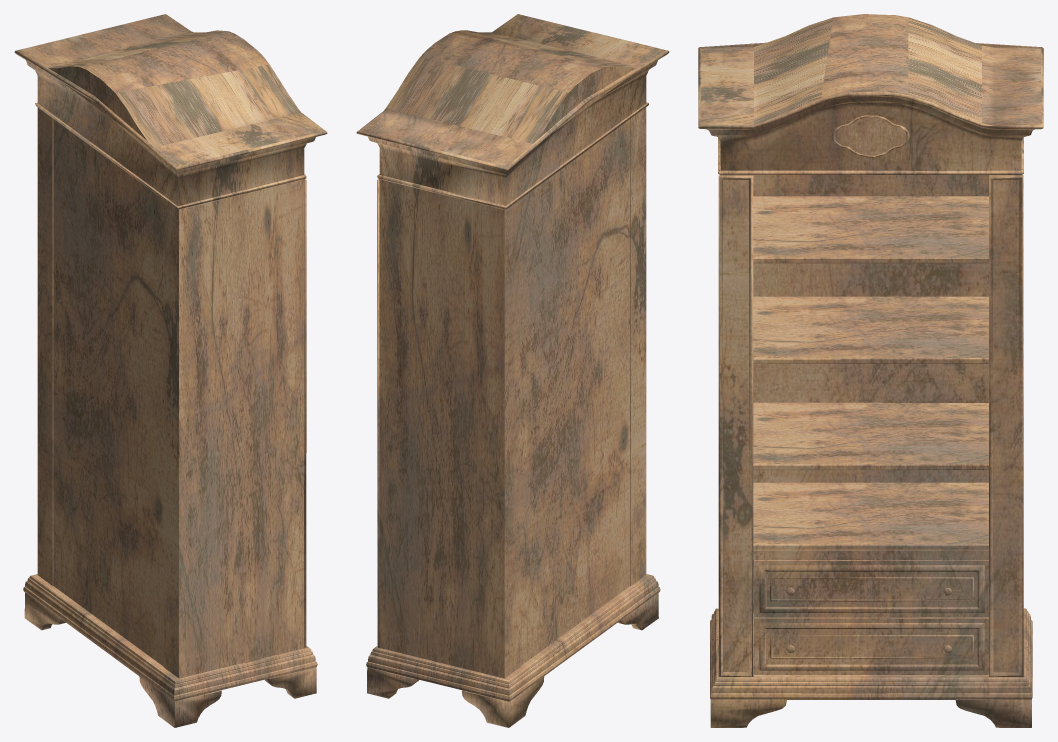
Rendered from estanteria.FBX.
The picture shows the model from 3 angles, left to right: view 1: azimuth 30°, elevation 25°; view 2: azimuth 150°, elevation 25°; view 3: azimuth 270°, elevation 25°; orthographic projection. The views are drawn at different scales.
Visible parts, largest first — view 1: estanteria; view 2: estanteria; view 3: estanteria.
Boxes of the visible parts, left/top/right/bottom form: estanteria: left=14, top=14, right=327, bottom=727; estanteria: left=356, top=14, right=669, bottom=727; estanteria: left=698, top=14, right=1043, bottom=727.
Bounding box in the file's own units: 22.12 × 83.02 × 40.71.
